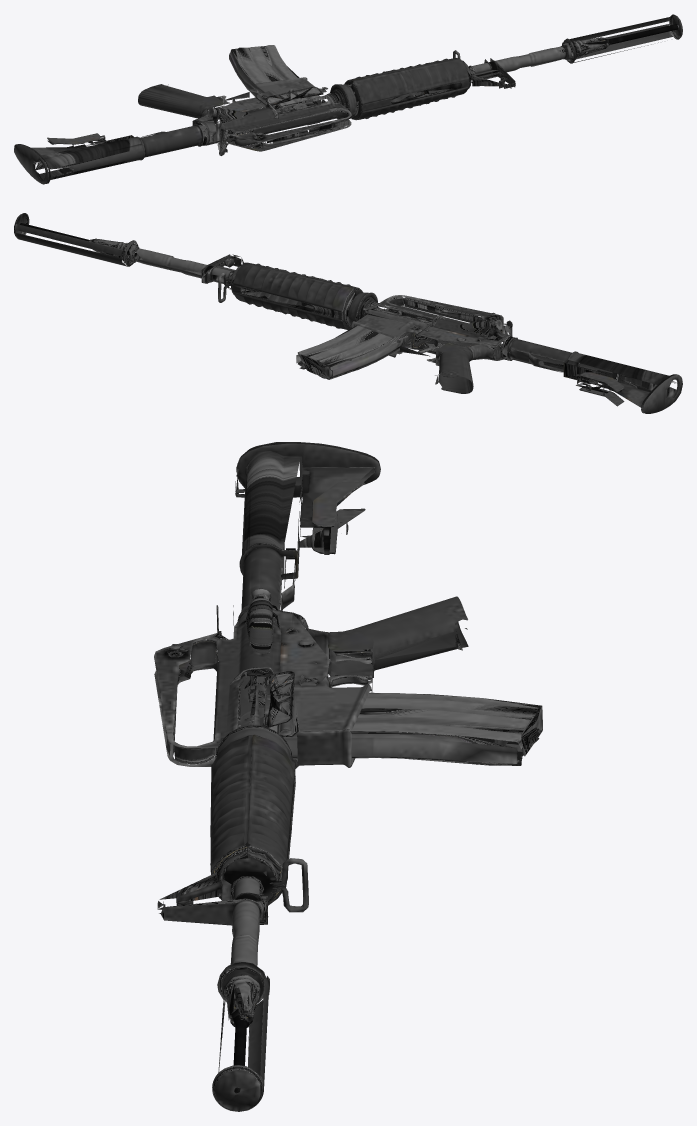
3 views of the same model, one above another, from view 1: azimuth 30°, elevation 25°; view 2: azimuth 150°, elevation 25°; view 3: azimuth 270°, elevation 25° (orthographic). The views are drawn at different scales.
Parts seen in each view (by area): view 1: w_m4a1; view 2: w_m4a1; view 3: w_m4a1.
Part boxes in pixels (box(x1,y1,x2,y2)): w_m4a1: box(14, 14, 682, 184); w_m4a1: box(14, 213, 682, 413); w_m4a1: box(154, 442, 542, 1111).
Bounding box in the file's own units: 1.45 × 0.0979 × 0.3878.
1 material, 1 textured.
